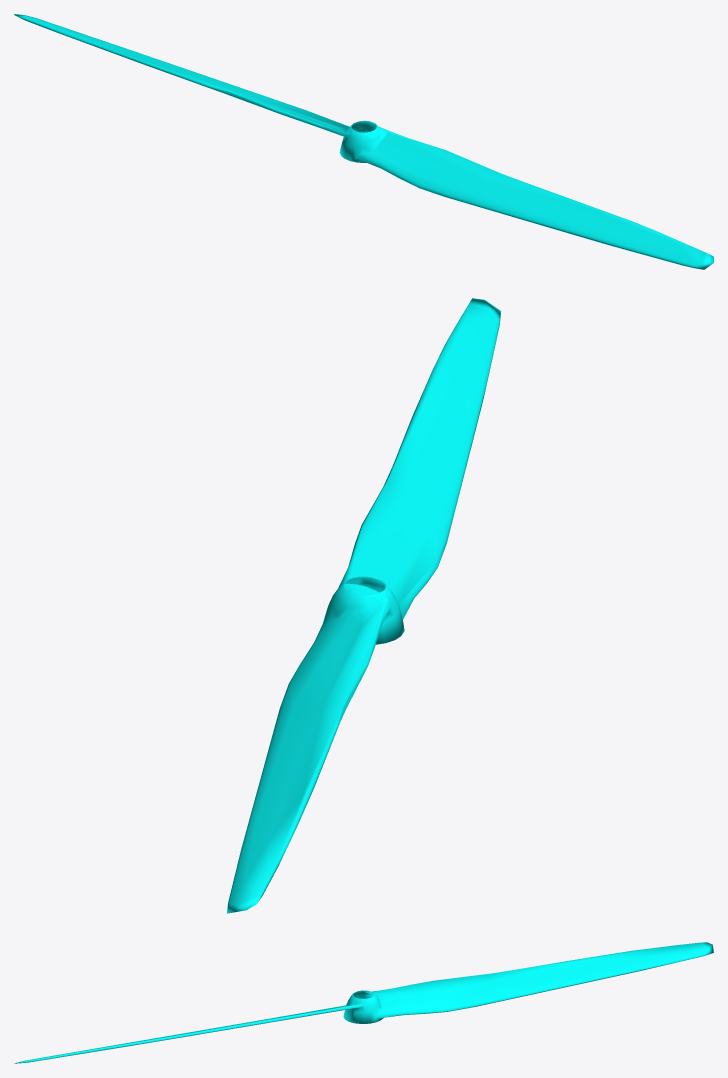
Rendered from drone_propeller3.obj.
3 renders of one model, top to bottom at view 1: azimuth 30°, elevation 25°; view 2: azimuth 150°, elevation 25°; view 3: azimuth 270°, elevation 25°, orthographic. The views are drawn at different scales.
Parts seen in each view (by area): view 1: main_motor_prop3_polySurface9; view 2: main_motor_prop3_polySurface9; view 3: main_motor_prop3_polySurface9.
Boxes of the visible parts, bbox=[...] form: main_motor_prop3_polySurface9: bbox=[14, 14, 713, 269]; main_motor_prop3_polySurface9: bbox=[227, 298, 500, 913]; main_motor_prop3_polySurface9: bbox=[14, 942, 713, 1063].
Size of the model in its own units: 6.5 by 0.5937 by 16.72.
